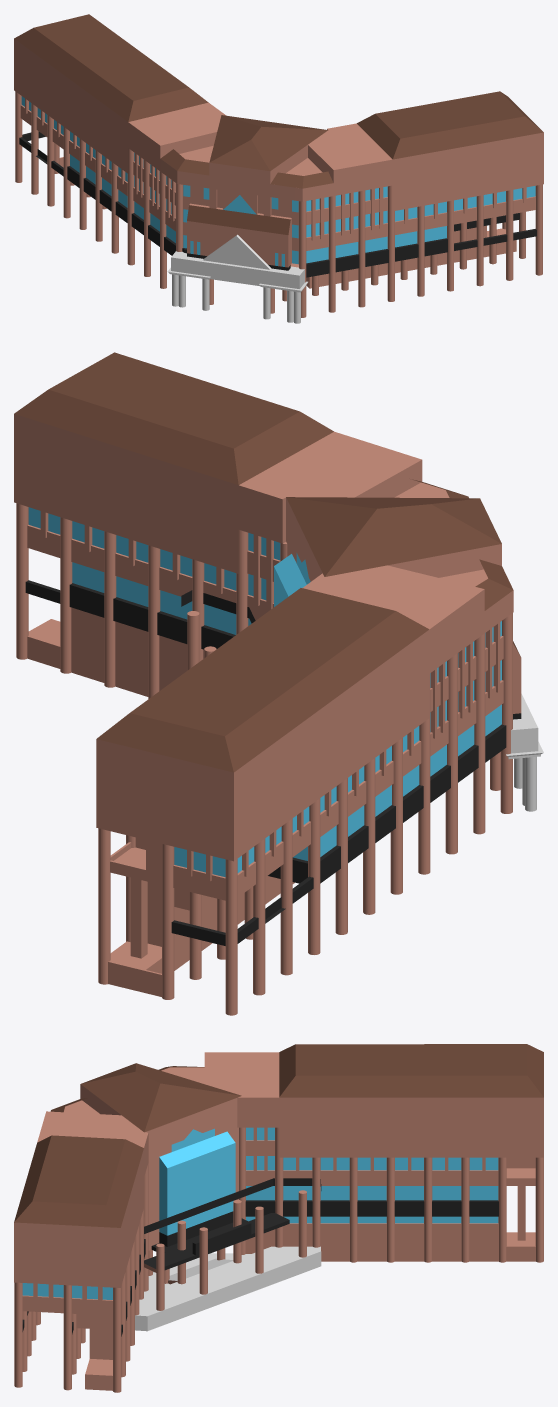
The model's file is BokJi2.glb.
The picture shows the model from 3 angles, top to bottom: view 1: azimuth 30°, elevation 25°; view 2: azimuth 150°, elevation 25°; view 3: azimuth 270°, elevation 25°; orthographic projection. The views are drawn at different scales.
Visible parts, largest first — view 1: Right, Roof, Left, Middle, Window, Bright, Dark; view 2: Left, Roof, Right, Window, Dark, Middle, Bright; view 3: Left, Roof, Right, Window, Middle, Dark, Bright.
Boxes of the visible parts, x1,y1,x2,y2 form: Right: [282, 123, 543, 317]; Roof: [14, 14, 543, 234]; Left: [14, 39, 225, 288]; Middle: [160, 145, 333, 313]; Window: [21, 96, 535, 266]; Bright: [167, 234, 307, 323]; Dark: [19, 131, 536, 277]; Left: [96, 565, 512, 1015]; Roof: [14, 352, 520, 772]; Right: [14, 414, 422, 698]; Window: [28, 507, 501, 877]; Dark: [25, 580, 521, 945]; Middle: [187, 482, 521, 790]; Bright: [506, 693, 543, 811]; Left: [204, 1052, 543, 1262]; Roof: [14, 1044, 543, 1227]; Right: [14, 1111, 152, 1392]; Window: [22, 1127, 498, 1299]; Middle: [64, 1067, 306, 1310]; Dark: [22, 1178, 498, 1336]; Bright: [135, 1246, 321, 1331].
Size of the model in its own units: 52.52 by 24 by 64.05.
